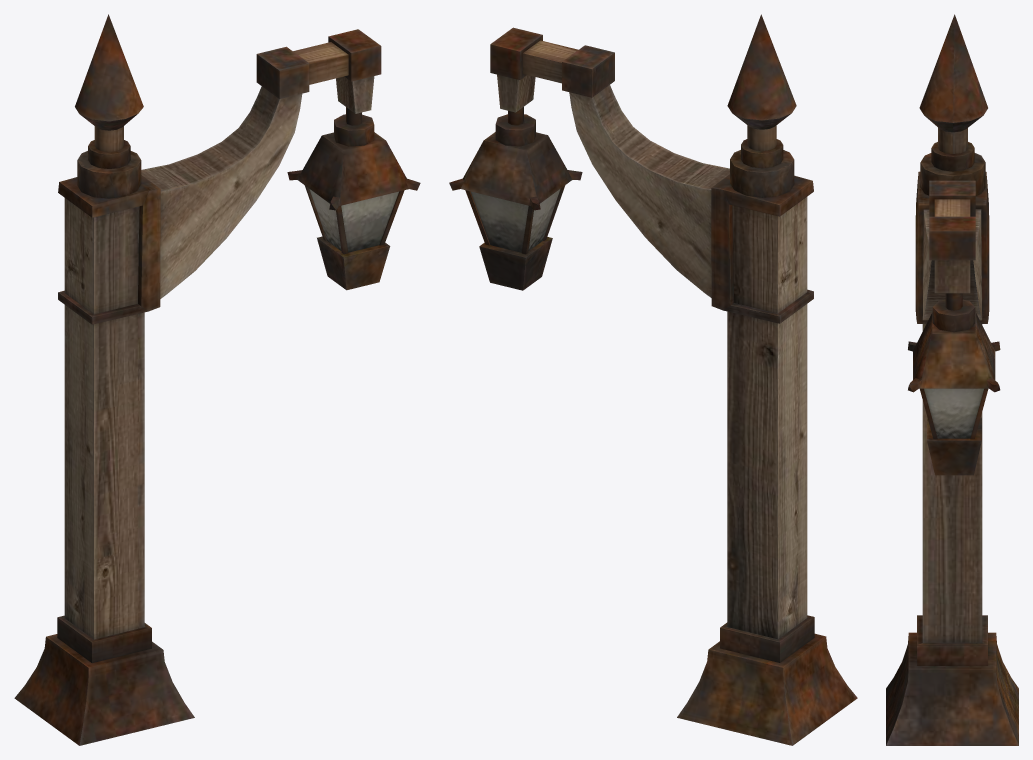
File: Lamp_Street_3.glb
The picture shows the model from 3 angles, left to right: view 1: azimuth 30°, elevation 25°; view 2: azimuth 150°, elevation 25°; view 3: azimuth 270°, elevation 25°; orthographic projection.
Visible parts, largest first — view 1: Lamp_Street_3; view 2: Lamp_Street_3; view 3: Lamp_Street_3.
Part boxes in pixels (x1,y1,x2,y2): Lamp_Street_3: (14,14,420,745); Lamp_Street_3: (449,14,857,745); Lamp_Street_3: (886,14,1018,745).
Size of the model in its own units: 1.6 by 3 by 0.5122.
Materials: 1 (1 with a texture image).
